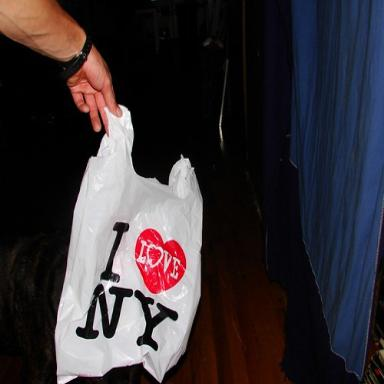plasticbag: (62, 97, 204, 384)
